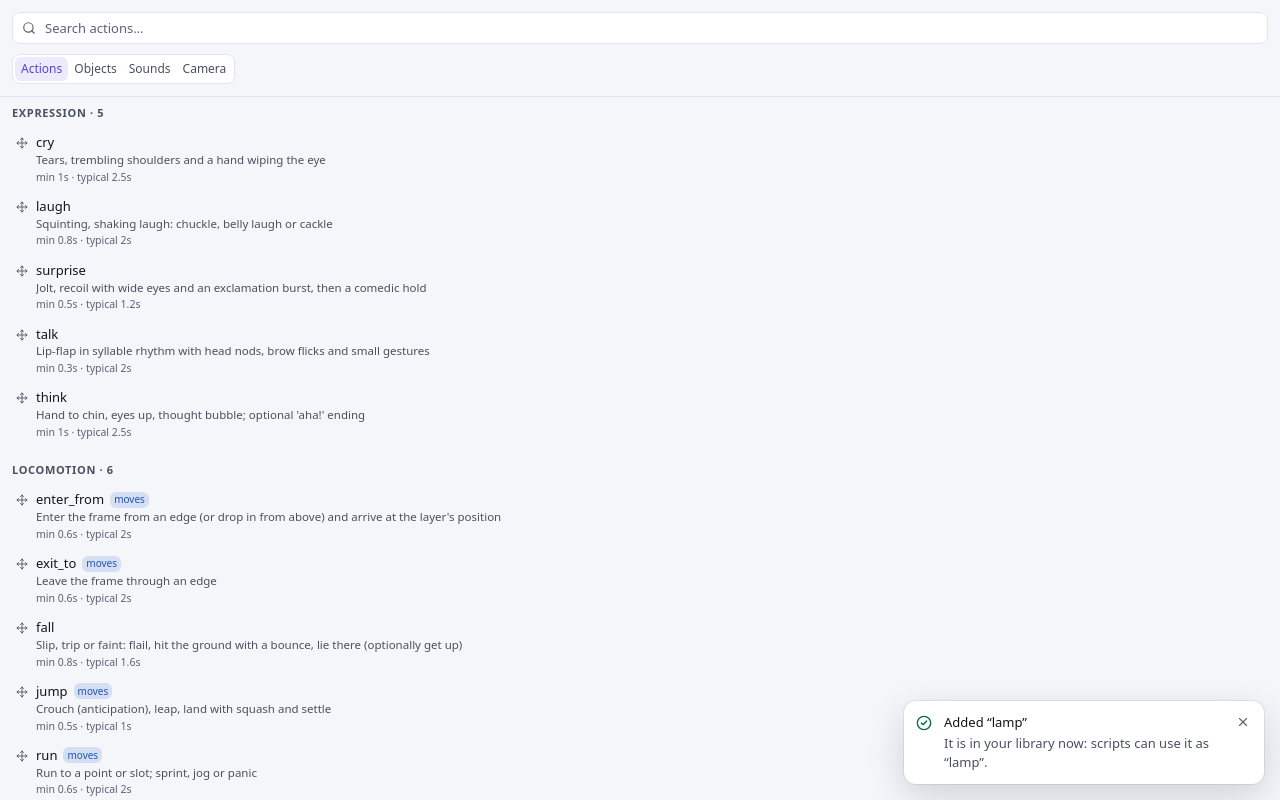
the Objects section in the studio › says so when the search finds no object
The image size is (1280, 800).
Step 1. Click the radio button labelled "Objects" → coordinates (96, 69), box [68, 57, 123, 81]
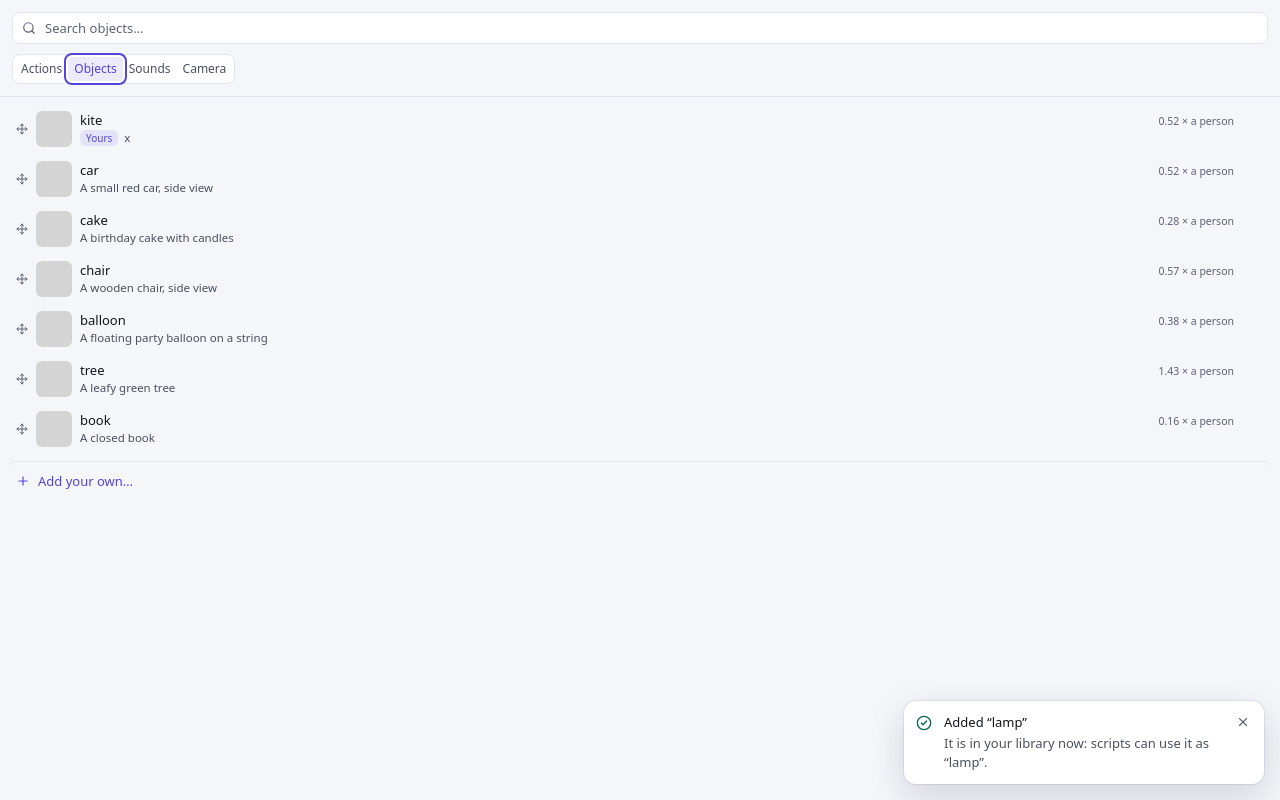
Step 2. Type "zebra" into the field named "search the library" → coordinates (640, 28), box [12, 12, 1268, 44]
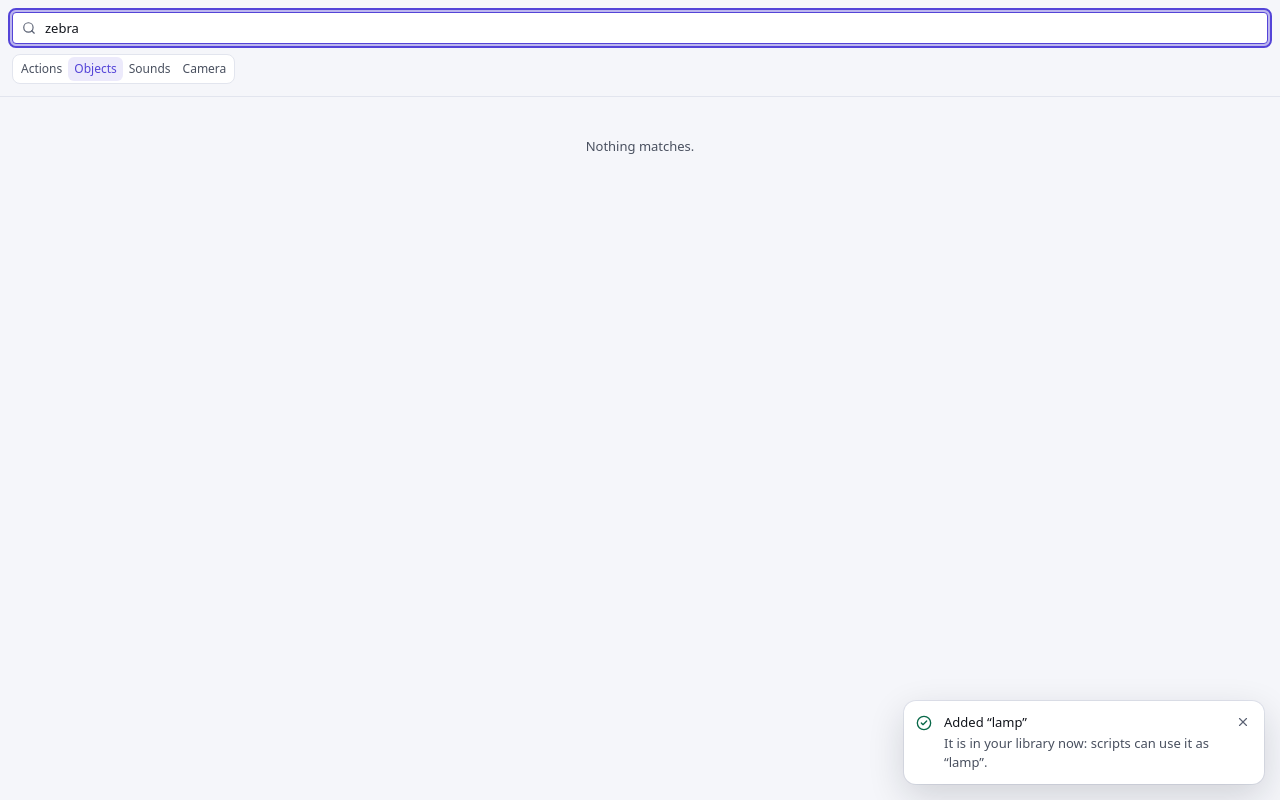
Result: the text "Nothing matches." is shown at [586, 137, 694, 155]
